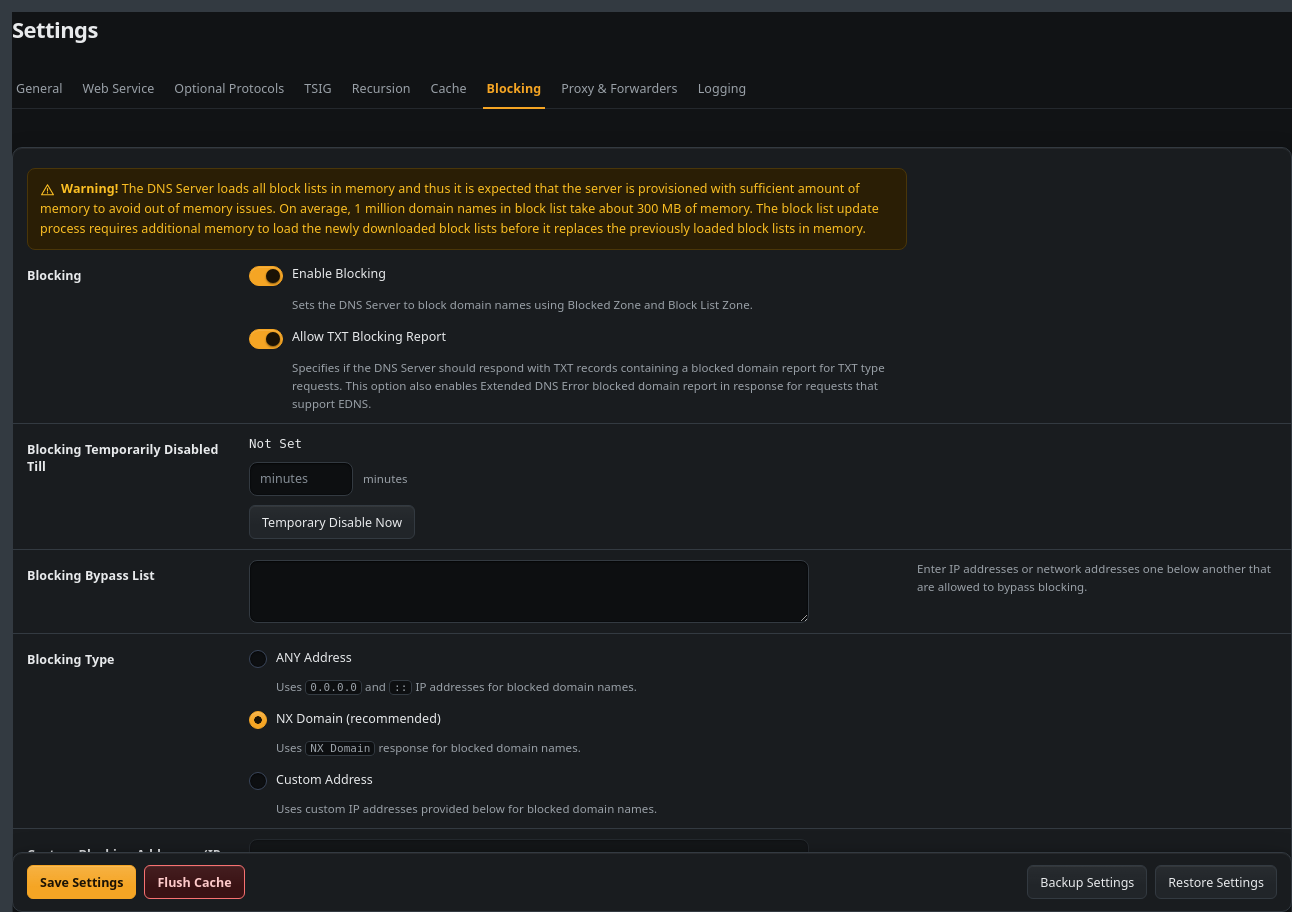
Test case: Settings: Blocking › with no minutes, "Temporary Disable Now" alerts with the literal text
The width and height of the screenshot is (1292, 912).
Expected: the button "Save Settings" is shown, [27,865,136,899]
Click the button "Temporary Disable Now" at (332, 522), box [249,505,415,539]
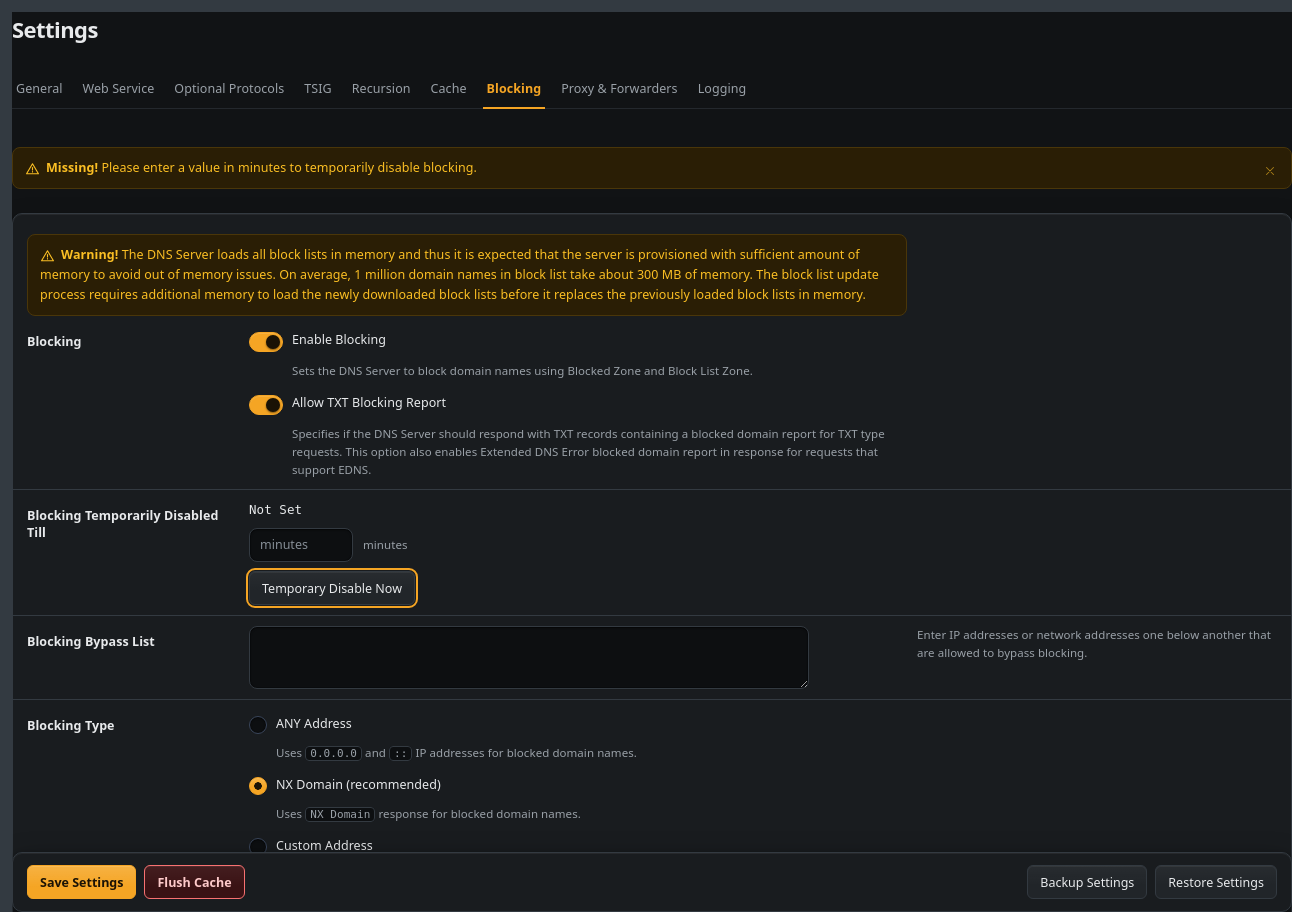
Expected: the text "Please enter a value in minutes to temporarily disable blocking." is shown, [101,160,477,176]
